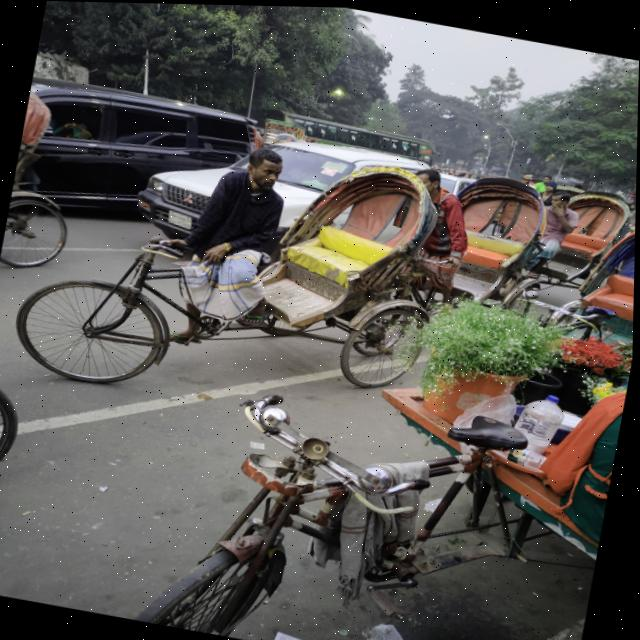rikshaw: (33, 110, 399, 434), (359, 157, 551, 349), (473, 165, 637, 348)
